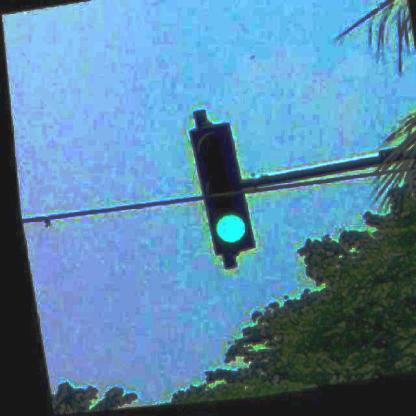Traffic Light -Green-: (187, 129, 250, 259)
